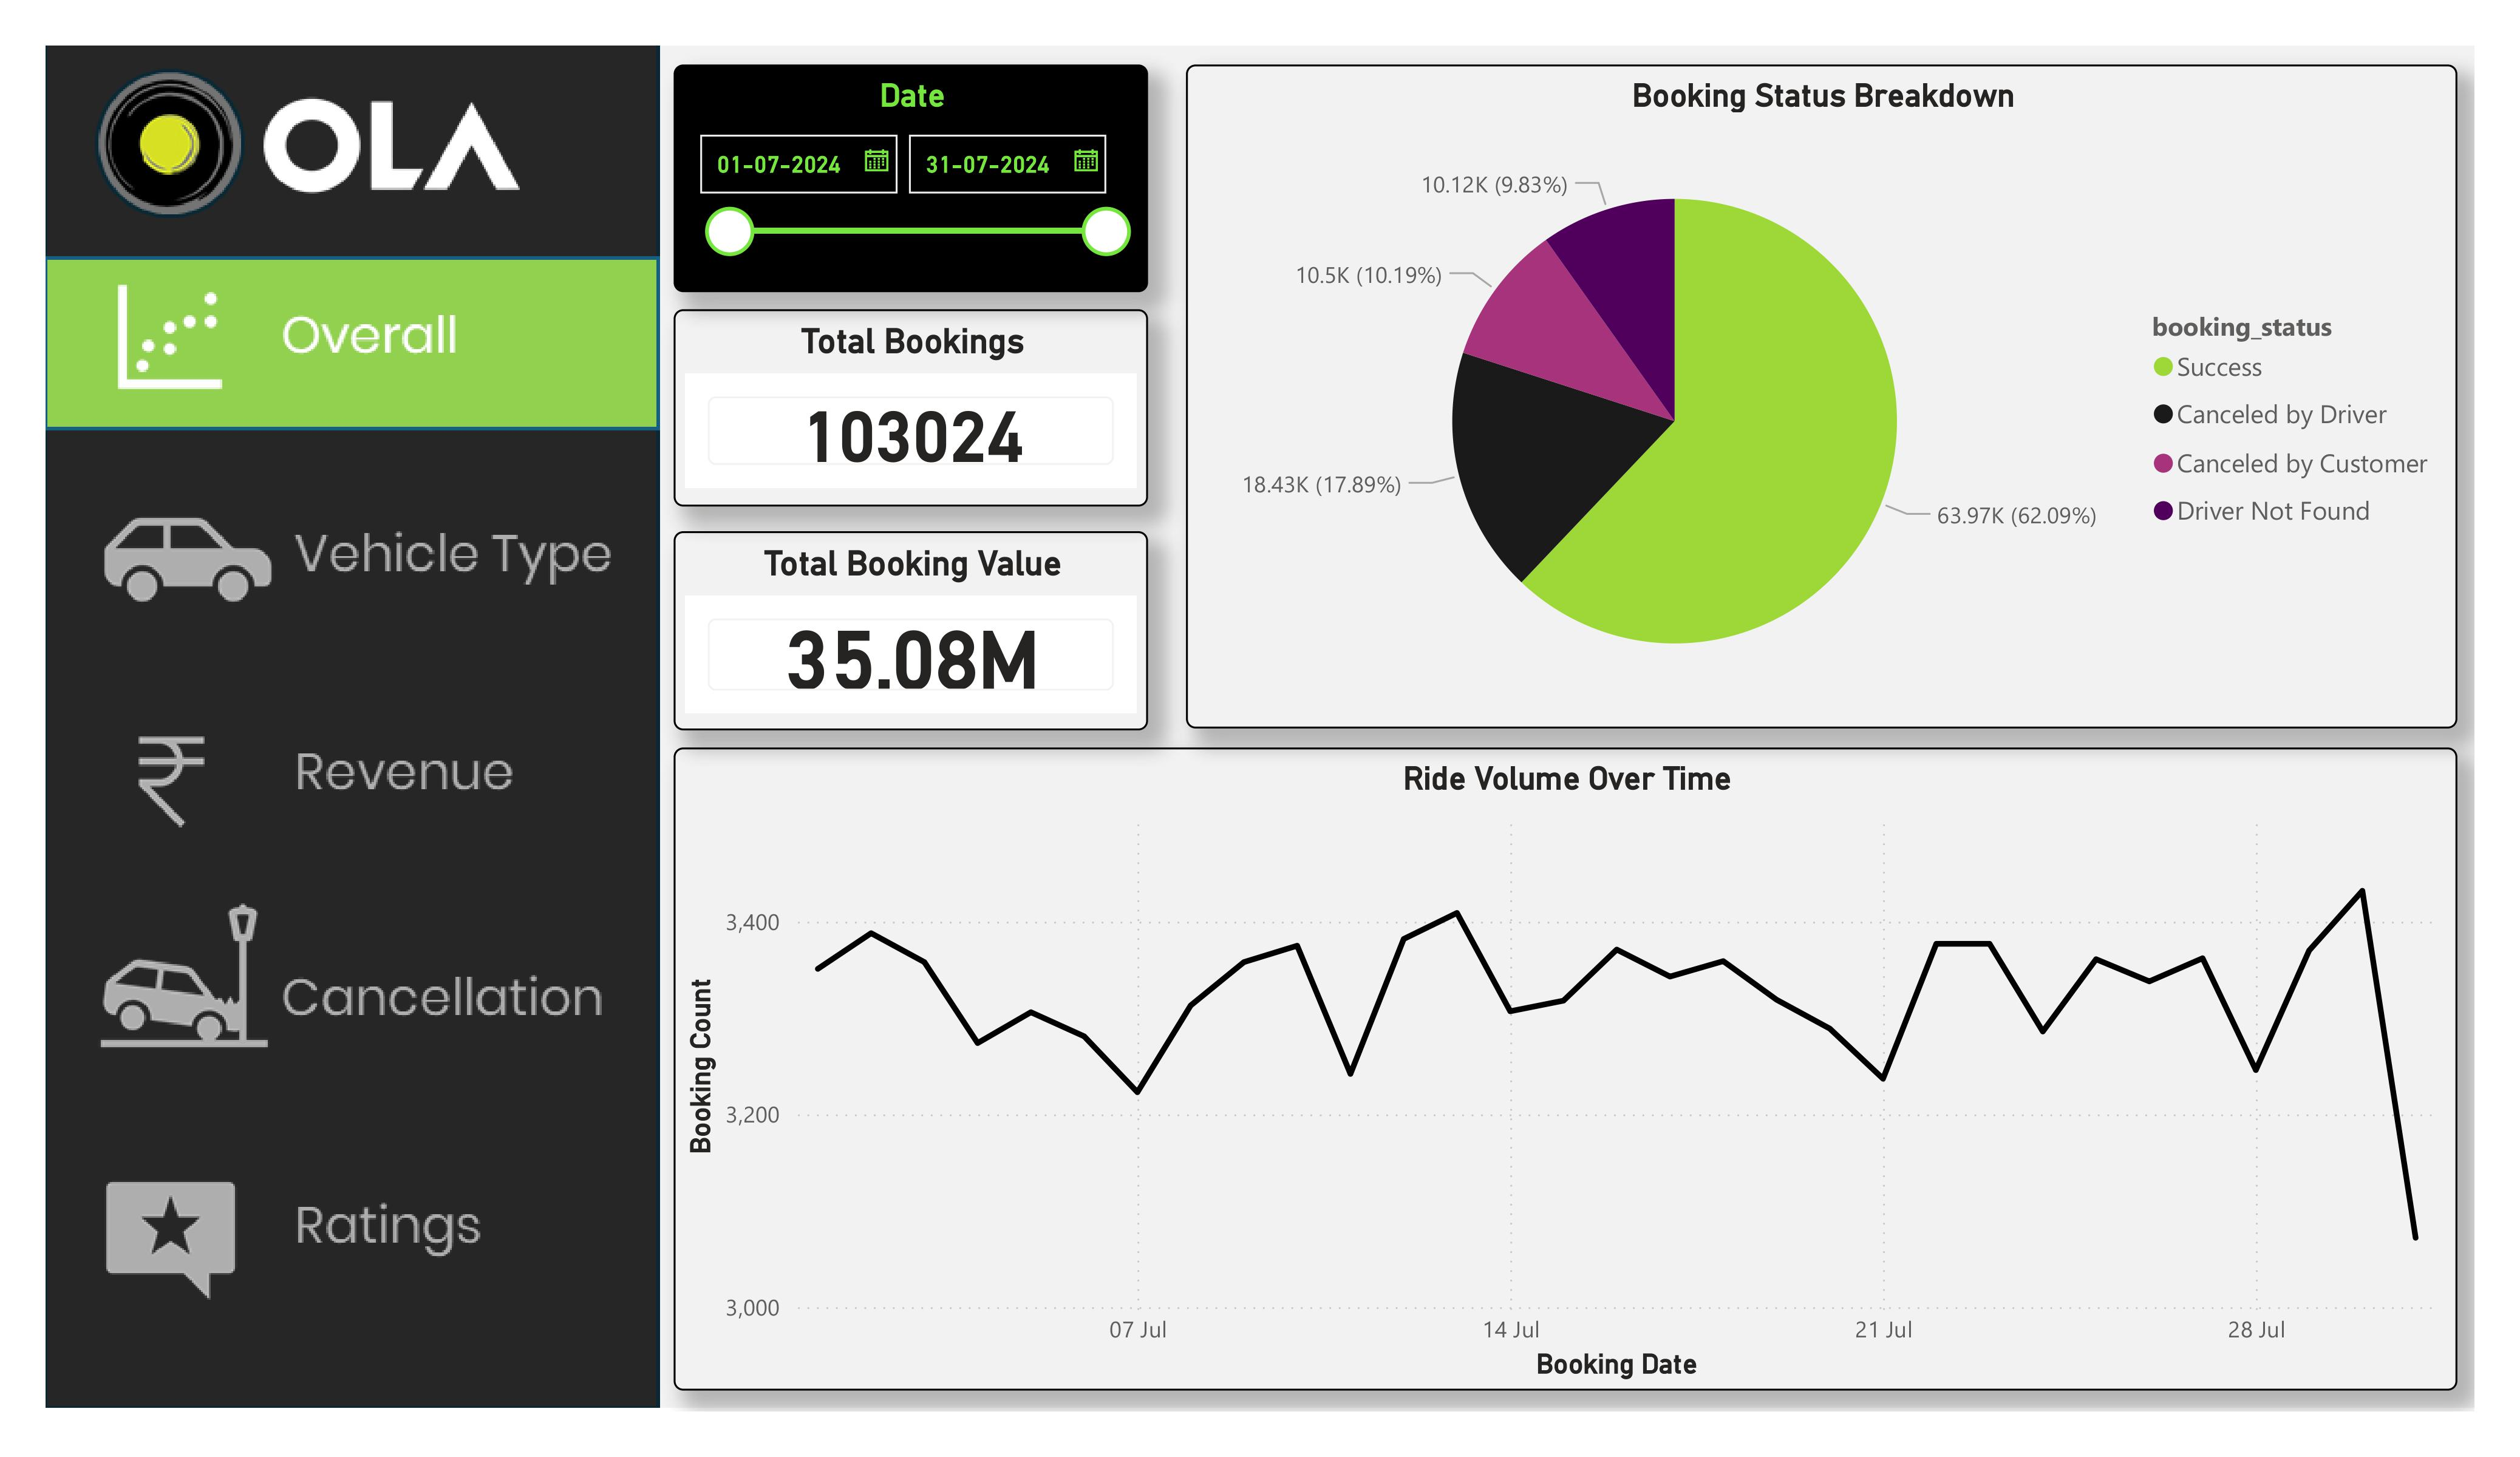

This screenshot's page, from the dashboard's own definition file:
{"tool":"powerbi","page":{"name":"Overall ","canvas":[1280,720],"ordinal":0},"visuals":[{"type":"actionButton","box":[0,225,325.7,90],"z":0},{"type":"actionButton","box":[0,342.9,325.7,90],"z":1000},{"type":"actionButton","box":[0,445.7,325.7,90],"z":2000},{"type":"actionButton","box":[0,581.4,325.7,90],"z":3000},{"type":"lineChart","title":"Ride Volume Over Time","fields":{"Y":["CountNonNull(public ola_bookings.booking_id)"],"Category":["public ola_bookings.date"]},"box":[331.4,370,940,338.6],"z":4000},{"type":"pieChart","title":"Booking Status Breakdown ","fields":{"Category":["public ola_bookings.booking_status"],"Y":["CountNonNull(public ola_bookings.booking_status)"]},"box":[601.4,10,670,350],"z":5000},{"type":"slicer","title":"Date","fields":{"Values":["public ola_bookings.date"]},"box":[331.2,10,250,120],"z":6000},{"type":"cardVisual","title":"Total Bookings","fields":{"Data":["CountNonNull(public ola_bookings.booking_id)"]},"box":[331.2,138.8,250,103.8],"z":7000},{"type":"cardVisual","title":"Total Booking Value","fields":{"Data":["Sum(public ola_bookings.booking_value)"]},"box":[331.2,256.2,250,105],"z":8000}]}

Visuals, with their boxes on the page's 1280x720 design canvas (x1, y1, x2, y2). These are canvas units, not pixel positions in the 2520x1457 screenshot, which may show the page scaled, cropped or inside an application window:
actionButton: x1=0 y1=225 x2=326 y2=315
actionButton: x1=0 y1=343 x2=326 y2=433
actionButton: x1=0 y1=446 x2=326 y2=536
actionButton: x1=0 y1=581 x2=326 y2=671
"Ride Volume Over Time" lineChart: x1=331 y1=370 x2=1271 y2=709
"Booking Status Breakdown " pieChart: x1=601 y1=10 x2=1271 y2=360
"Date" slicer: x1=331 y1=10 x2=581 y2=130
"Total Bookings" cardVisual: x1=331 y1=139 x2=581 y2=243
"Total Booking Value" cardVisual: x1=331 y1=256 x2=581 y2=361
